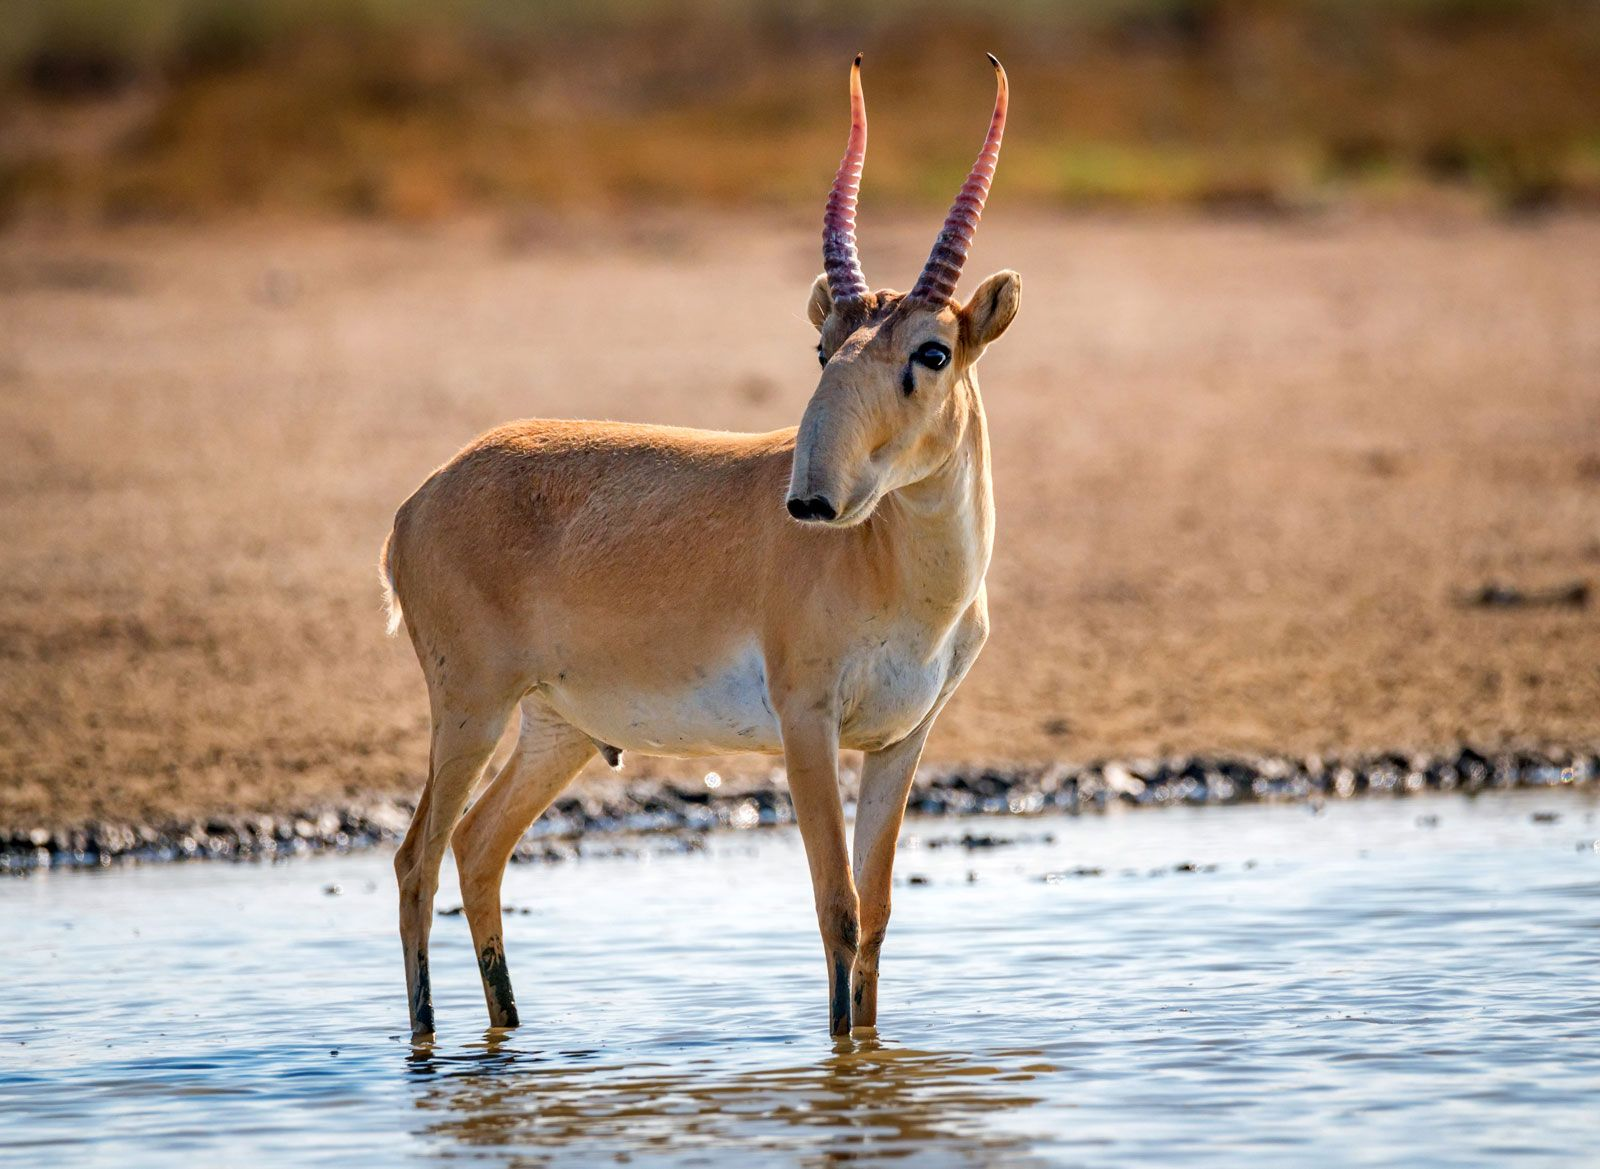saiga: (374, 53, 1027, 1075)
